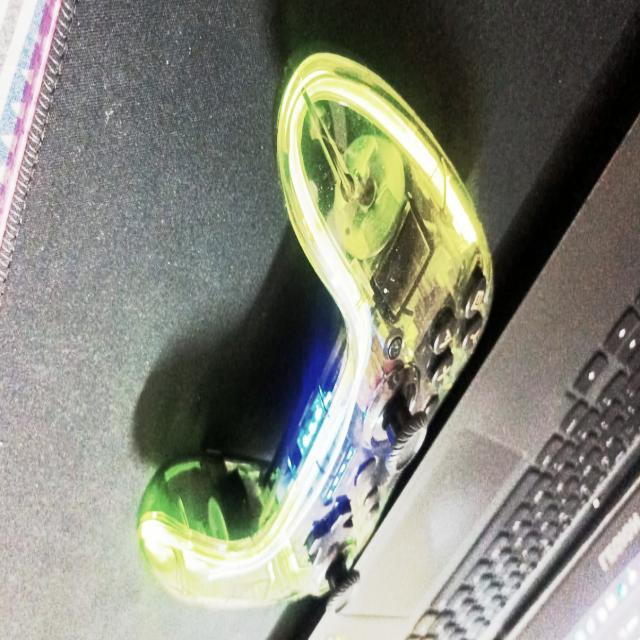gamepad: (135, 49, 492, 606)
